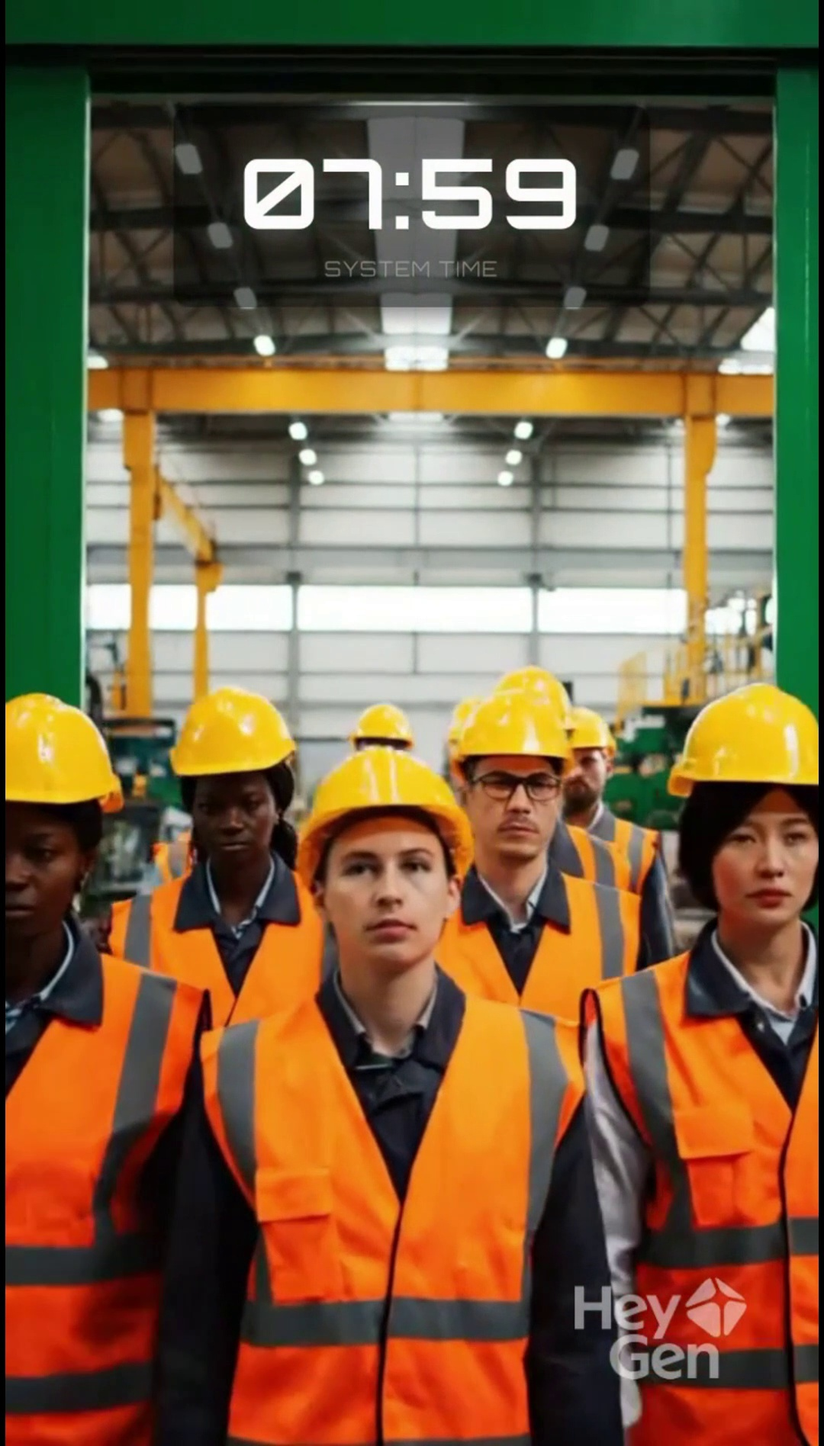Alena: (166, 706, 299, 939)
Amelie: (0, 694, 97, 1013)
Ibtihel: (307, 773, 473, 1032)
Insaf: (684, 704, 824, 971)
Mohamed: (464, 711, 602, 873)
porte_verte: (0, 33, 815, 462)
temp: (311, 735, 497, 1406), (663, 685, 824, 1418), (5, 645, 138, 1399), (176, 102, 656, 300), (155, 604, 295, 1282), (451, 628, 654, 935)
